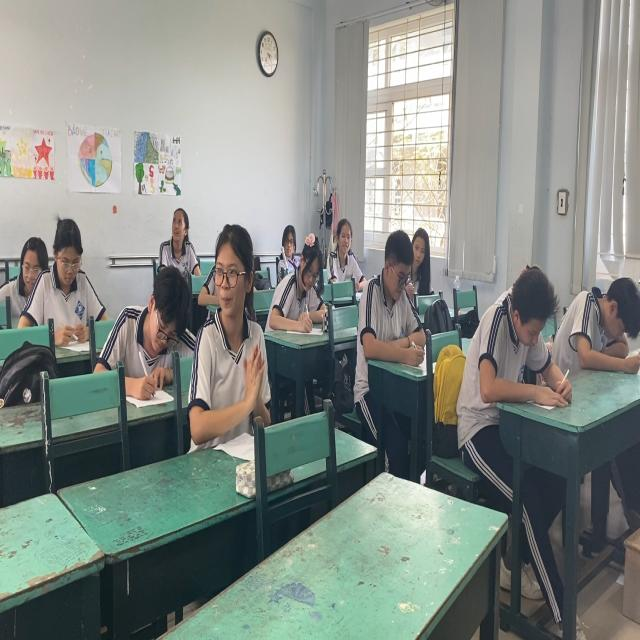cheating: (190, 216, 272, 406)
not_cheating: (472, 261, 557, 409), (561, 271, 640, 385), (365, 236, 423, 367), (122, 272, 186, 388), (42, 212, 101, 333), (289, 237, 328, 340), (157, 198, 202, 268), (408, 205, 439, 288), (9, 230, 50, 291), (330, 216, 359, 275), (276, 219, 302, 271)
